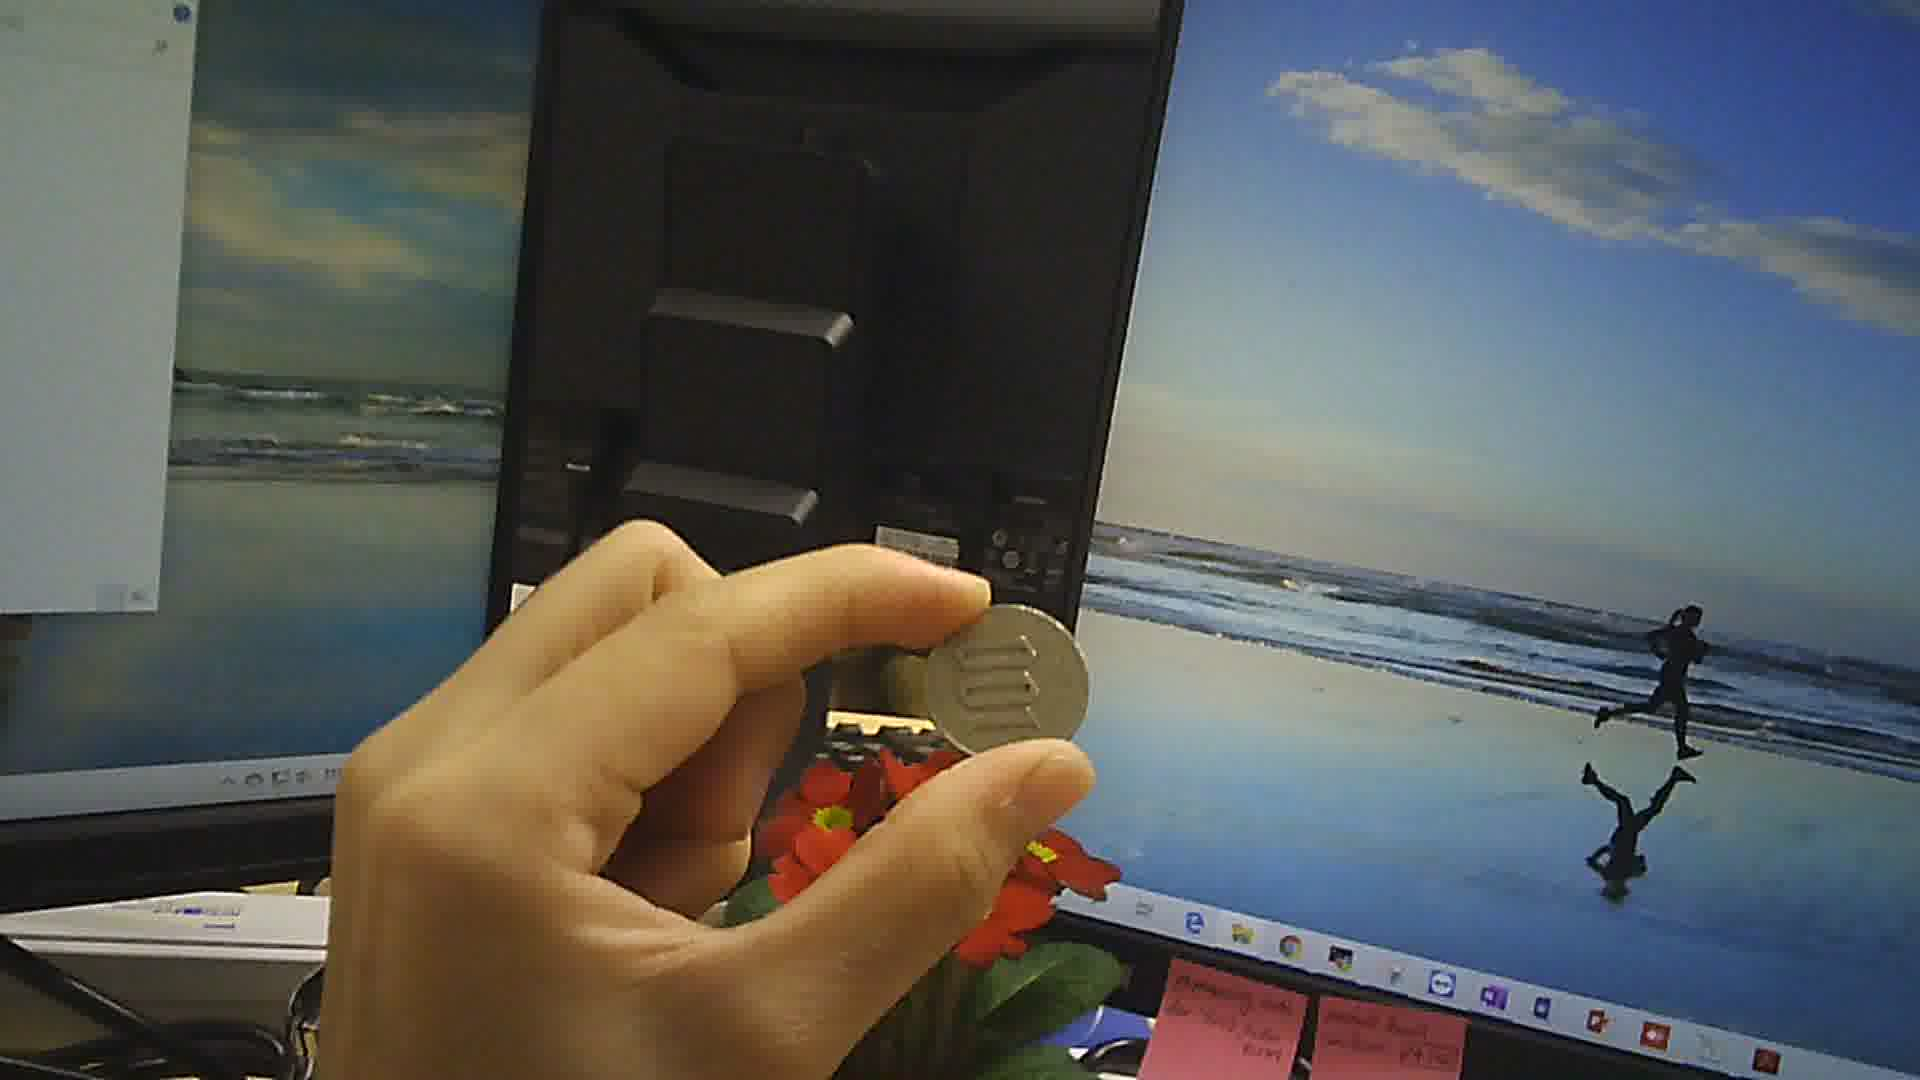100 Yen: (922, 595, 1098, 762)
